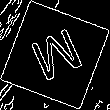M_SE: (23, 23, 87, 87)
